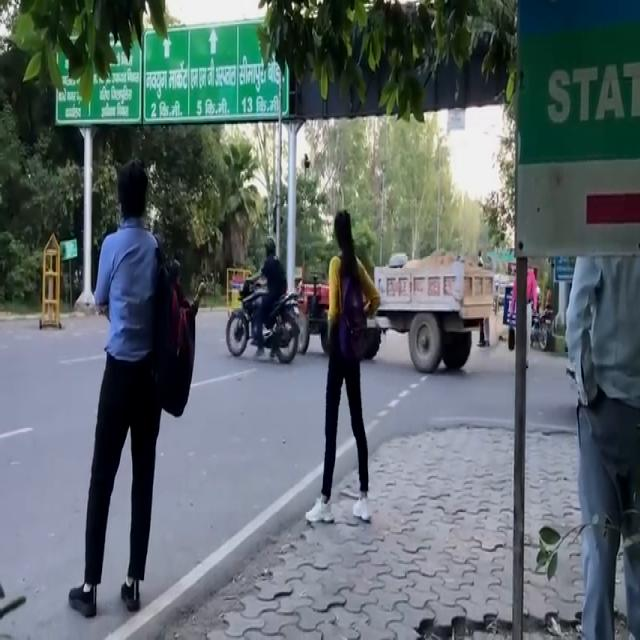MOTORCYCLE: (230, 270, 310, 362)
